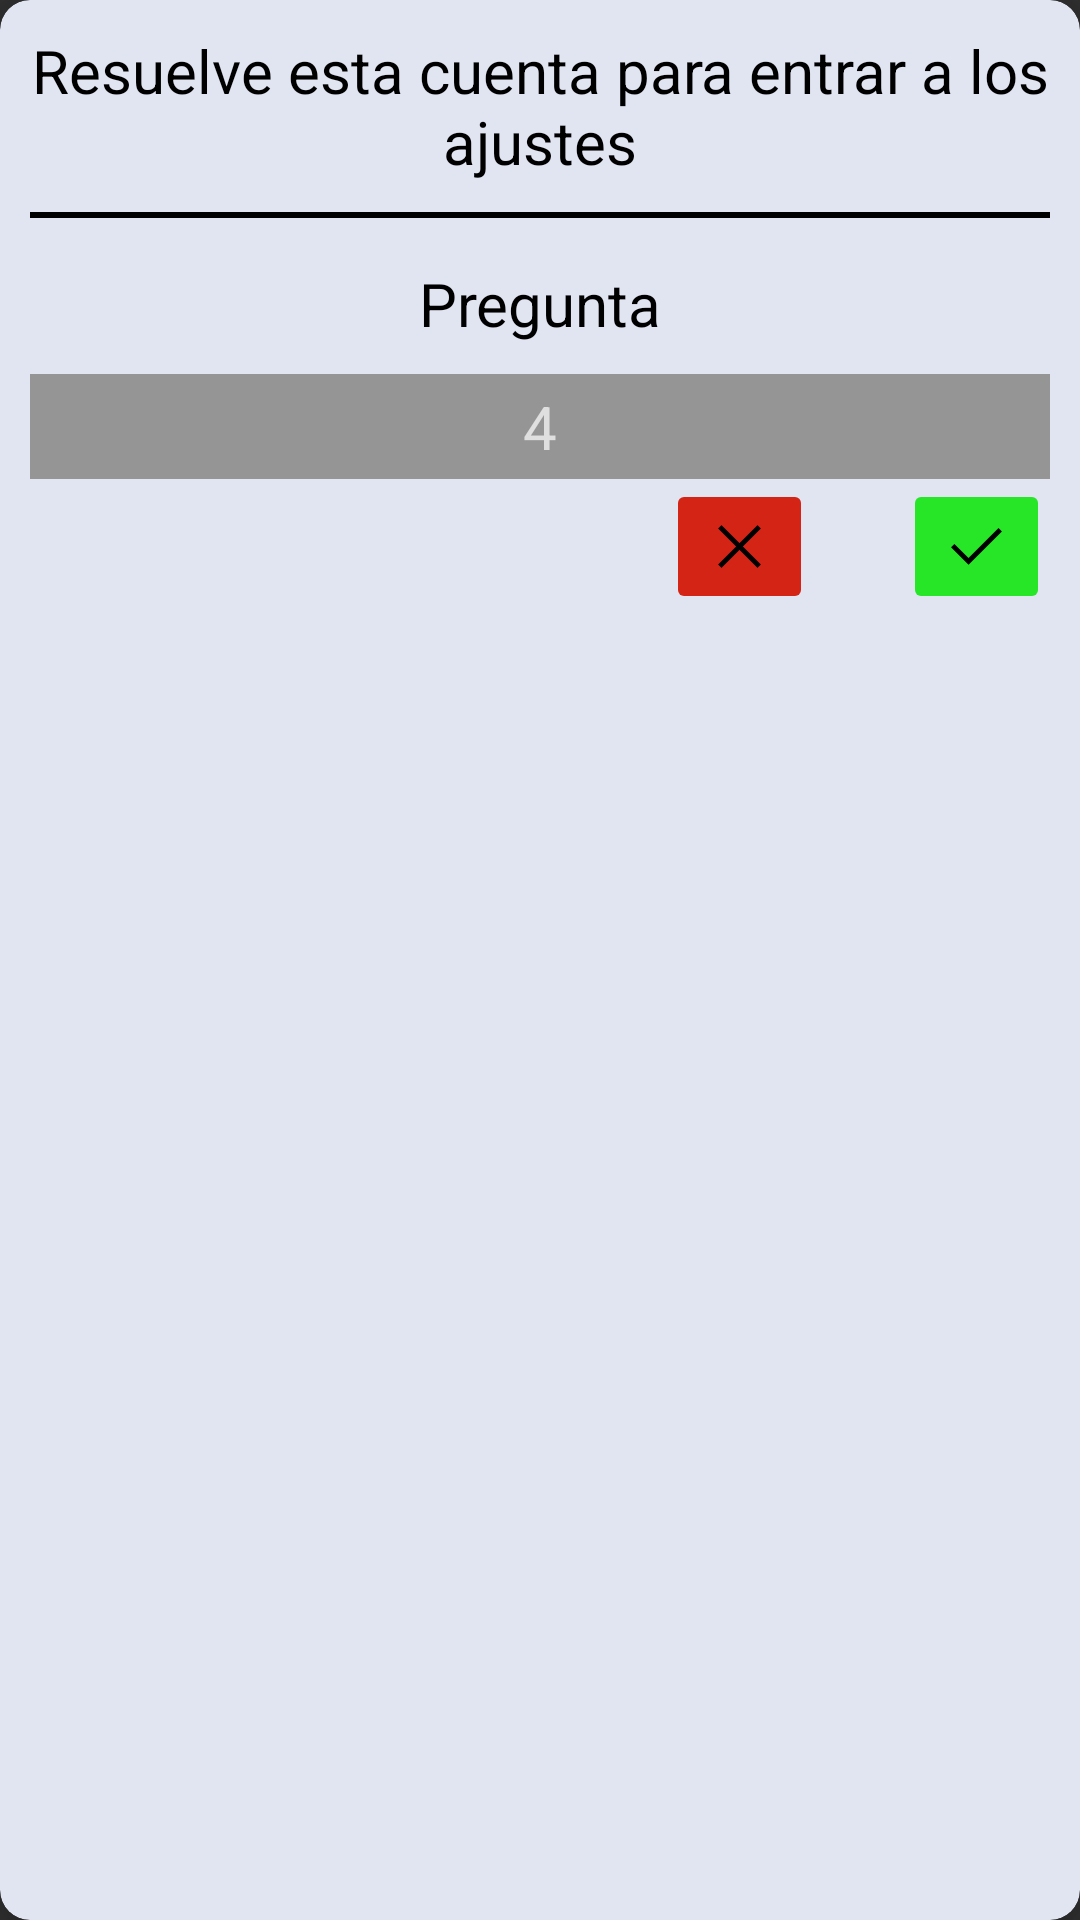

Icon bounding boxes for this 1080 × 1920 phone screenshot, format (left=x1, top=y1, right=x2, bottom=y2):
cancel: (left=678, top=497, right=801, bottom=596)
check: (left=915, top=497, right=1038, bottom=596)
